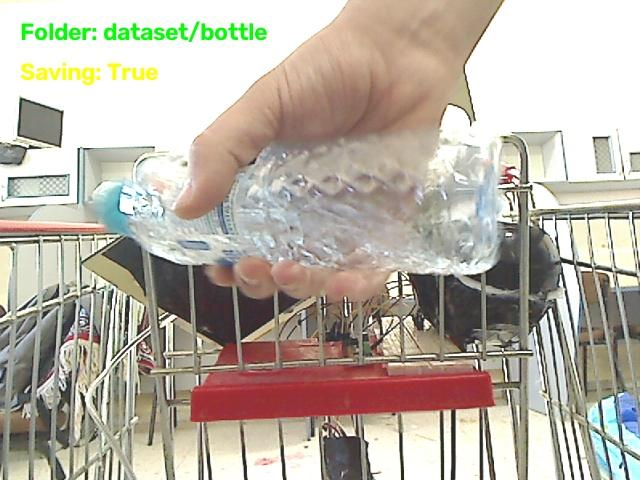Bottle: (95, 132, 500, 277)
